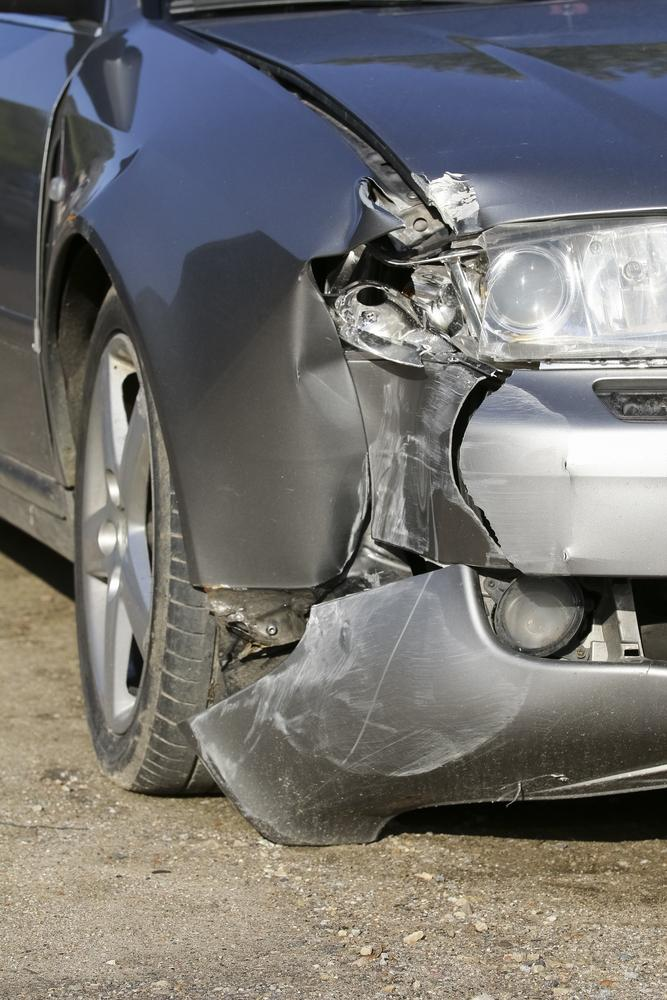crack: (449, 369, 512, 551)
dent: (289, 176, 376, 576), (364, 361, 496, 556), (56, 109, 130, 215), (408, 168, 483, 228)
lamp broken: (322, 211, 667, 364)
scratch: (182, 565, 537, 788), (461, 379, 576, 575)
